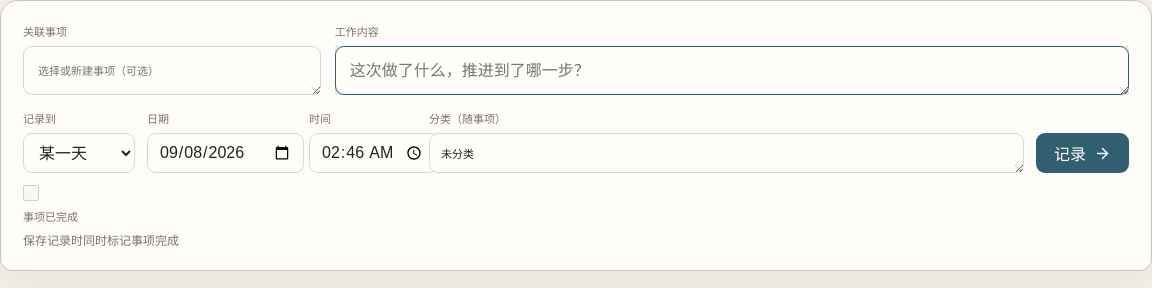
Test: quick work entry › suggests a category after any single matching item character
In the field labelled "关联事项": (172, 70) [23,46,321,95], type "株"
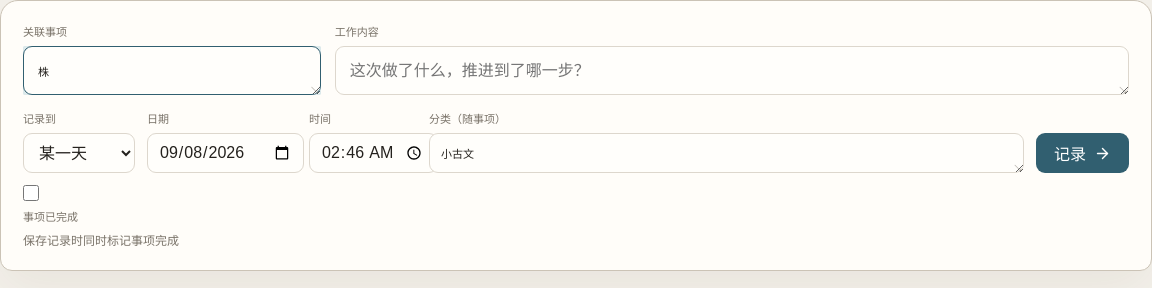
Expected: the field labelled "分类" holds "小古文", [429,133,1024,173]
